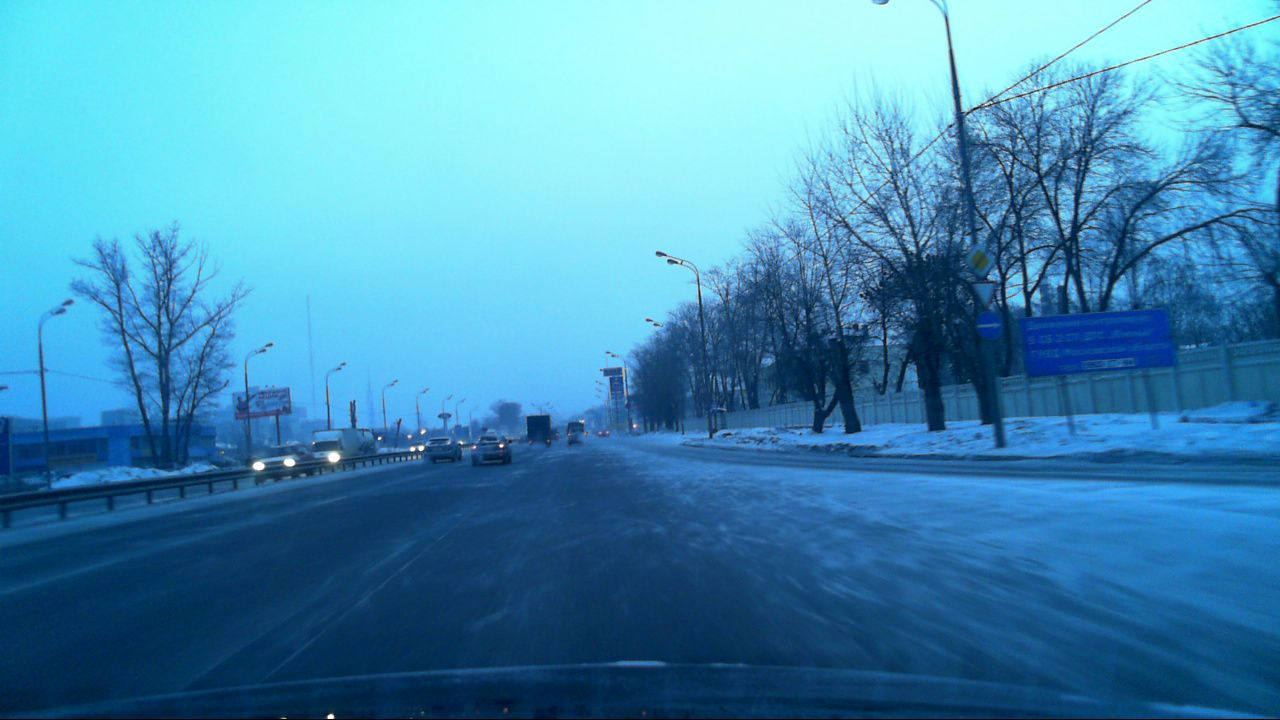main road: (962, 246, 994, 279)
